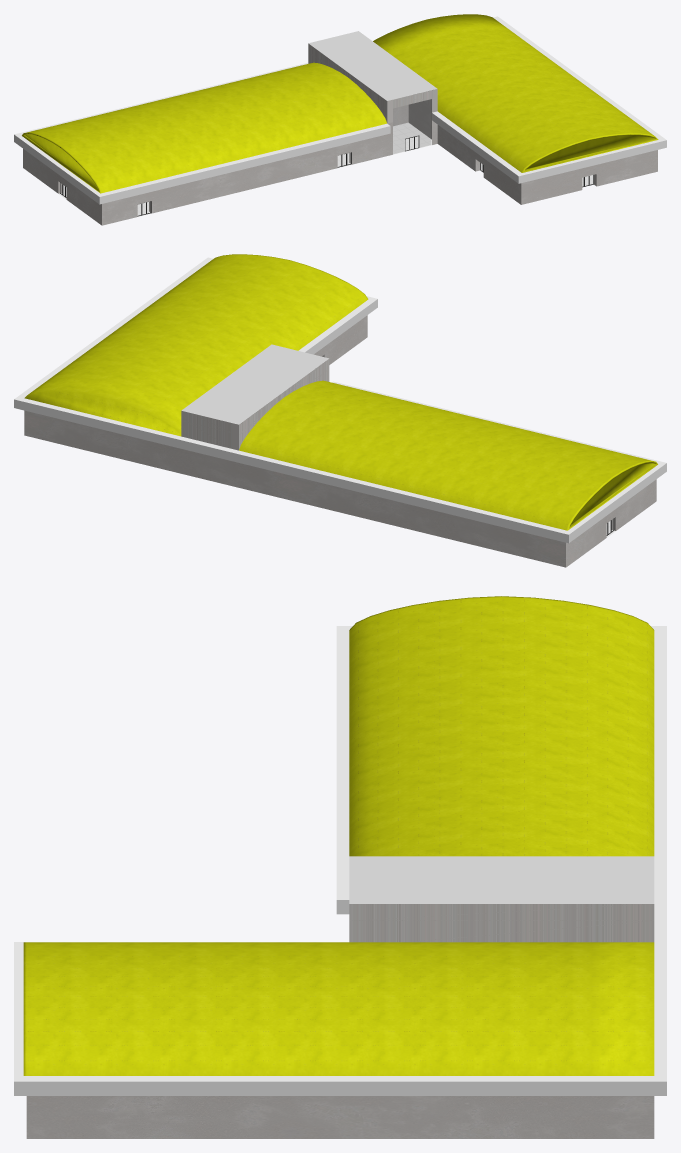
File: Namayeshgah.gltf
The picture shows the model from 3 angles, top to bottom: view 1: azimuth 30°, elevation 25°; view 2: azimuth 150°, elevation 25°; view 3: azimuth 270°, elevation 25°; orthographic projection. The views are drawn at different scales.
Visible parts, largest first — view 1: West Roof, East Roof, Main Wall, Roof Border, Flat Roof, Roof Wall, Ground, Glass Door, Glass Door Top; view 2: West Roof, East Roof, Main Wall, Roof Border, Flat Roof, Roof Wall; view 3: East Roof, West Roof, Main Wall, Roof Border, Flat Roof, Roof Wall.
Boxes of the visible parts, x1,y1,x2,y2 form: West Roof: (22, 62, 386, 193); East Roof: (373, 14, 658, 172); Main Wall: (23, 101, 657, 225); Roof Border: (14, 16, 666, 204); Flat Roof: (309, 31, 437, 100); Roof Wall: (308, 43, 437, 123); Ground: (58, 122, 593, 216); Glass Door: (393, 113, 430, 153); Glass Door Top: (393, 99, 430, 121); West Roof: (239, 380, 657, 530); East Roof: (24, 254, 368, 436); Main Wall: (24, 315, 656, 567); Roof Border: (14, 257, 666, 543); Flat Roof: (181, 344, 328, 424); Roof Wall: (181, 359, 329, 450); East Roof: (23, 942, 654, 1075); West Roof: (349, 596, 654, 856); Main Wall: (26, 1096, 654, 1138); Roof Border: (14, 626, 666, 1095); Flat Roof: (349, 856, 654, 903); Roof Wall: (349, 904, 654, 942).
Size of the model in its own units: 101 by 11.01 by 61.36.
Materials: 8 (4 with a texture image).
